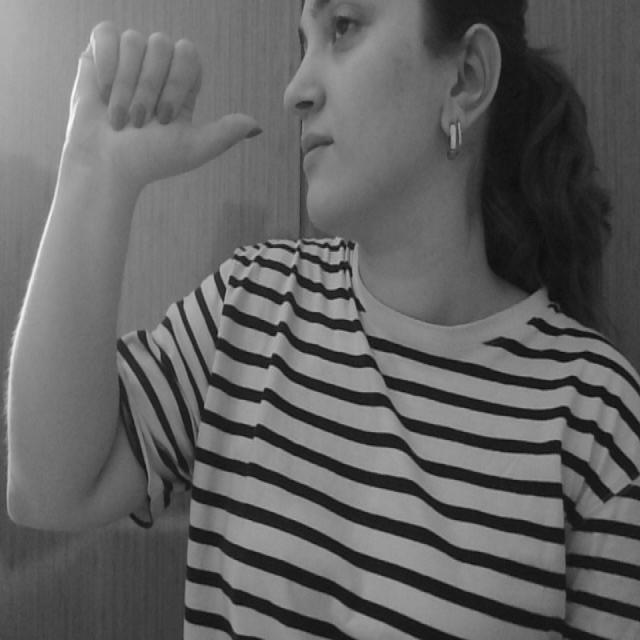icmek: (38, 10, 368, 186)
